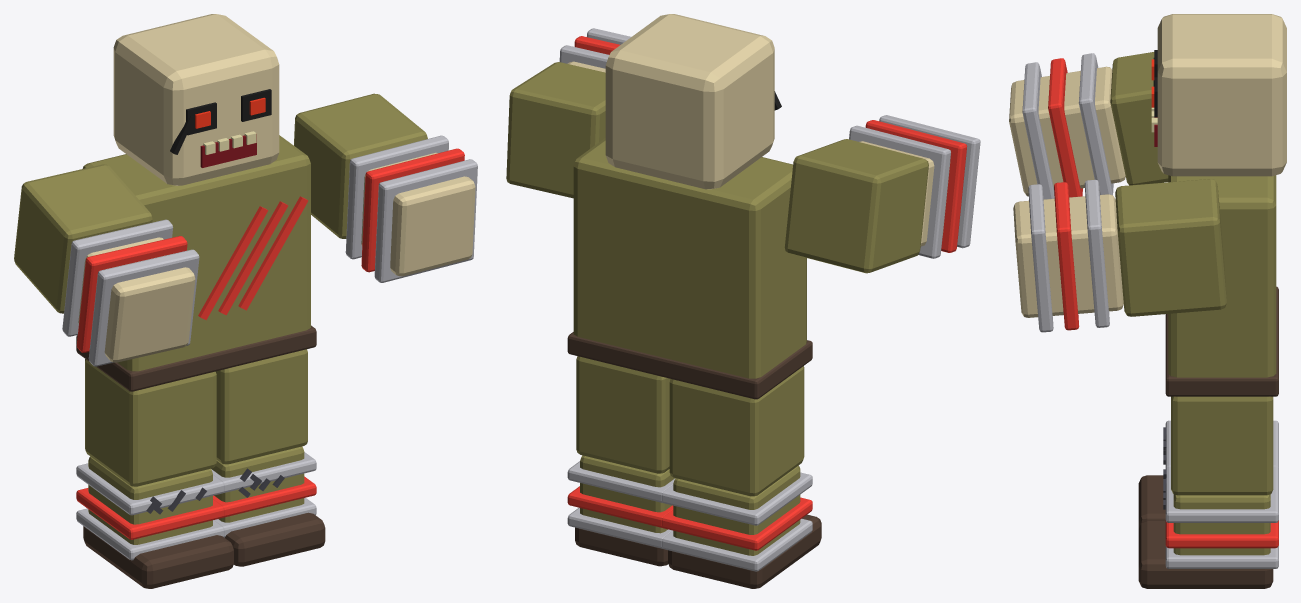
Rendered from zombi_blindado.obj.
3 views of the same model, side by side, from view 1: azimuth 30°, elevation 25°; view 2: azimuth 150°, elevation 25°; view 3: azimuth 270°, elevation 25° (orthographic). The views are drawn at different scales.
Visible parts, largest first — view 1: Torso, LeftLeg, LeftArm, RightArm, Head, RightLeg; view 2: Torso, LeftLeg, Head, LeftArm, RightLeg, RightArm; view 3: RightArm, RightLeg, Head, LeftArm, Torso, LeftLeg.
Boxes of the visible parts, x1,y1,x2,y2 form: Torso: (76,135,316,391); LeftLeg: (76,359,233,588); LeftArm: (14,164,199,366); RightArm: (294,93,477,282); Head: (113,14,279,185); RightLeg: (211,349,325,566); Torso: (567,138,812,399); LeftLeg: (662,366,821,588); Head: (605,14,781,189); LeftArm: (784,115,980,273); RightLeg: (567,356,675,566); RightArm: (506,28,630,198); RightArm: (1013,179,1226,332); RightLeg: (1138,396,1278,588); Head: (1151,14,1286,176); LeftArm: (1009,52,1168,199); Torso: (1165,175,1278,396); LeftLeg: (1138,420,1278,528).
Size of the model in its own units: 4.14 by 5.22 by 2.58.
1 material, 1 textured.
